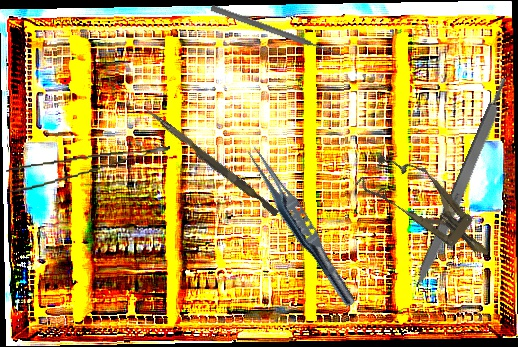Pusher: (142, 108, 282, 217), (209, 3, 343, 60)
Scalpel Handle: (411, 76, 515, 291)
Speculum: (354, 140, 505, 277)
Tissue Forceps: (238, 140, 364, 311), (5, 146, 173, 193)
